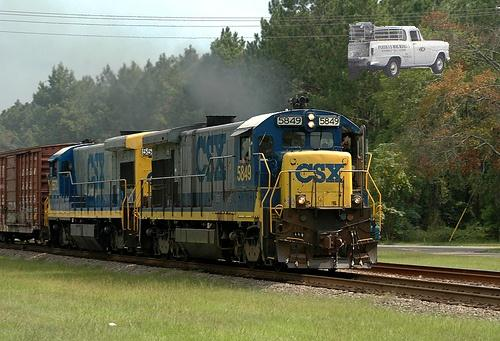tampered: (349, 23, 450, 78)
